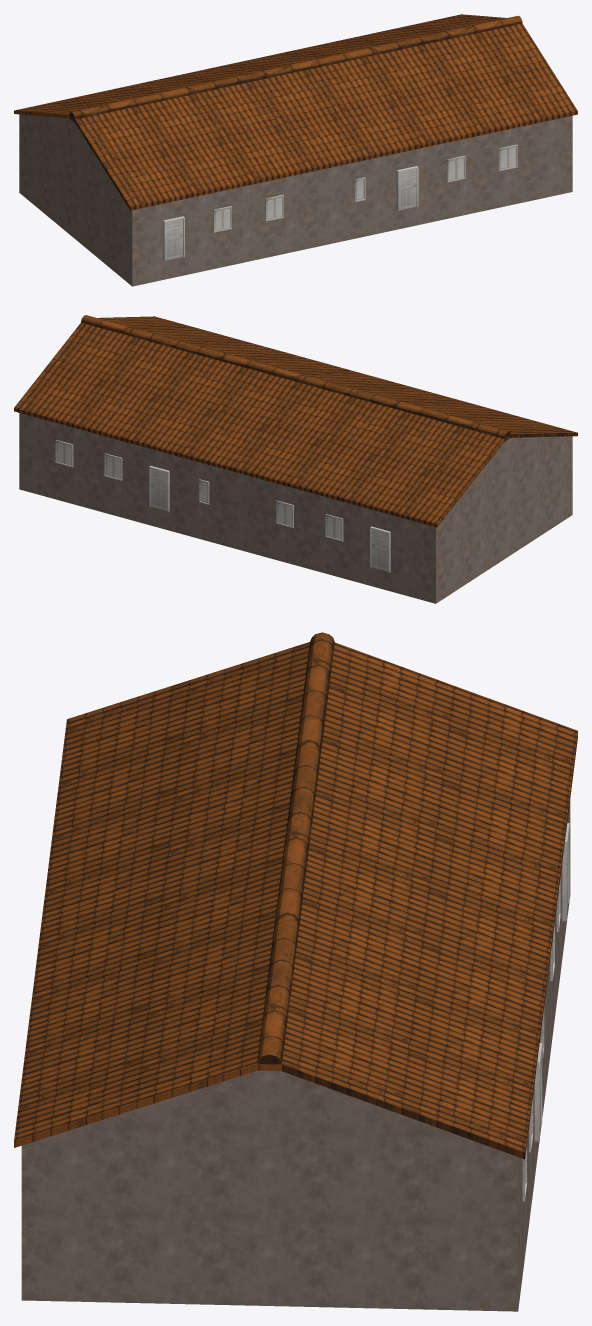
The model's file is Casa_12.fbx.
The picture shows the model from 3 angles, top to bottom: view 1: azimuth 30°, elevation 25°; view 2: azimuth 150°, elevation 25°; view 3: azimuth 270°, elevation 25°; orthographic projection. The views are drawn at different scales.
Visible parts, largest first — view 1: Casa_12; view 2: Casa_12; view 3: Casa_12.
Boxes of the visible parts, bbox=[...] form: Casa_12: bbox=[14, 14, 577, 286]; Casa_12: bbox=[14, 315, 577, 603]; Casa_12: bbox=[14, 632, 577, 1311].
Bounding box in the file's own units: 23.54 × 6.45 × 12.94.
